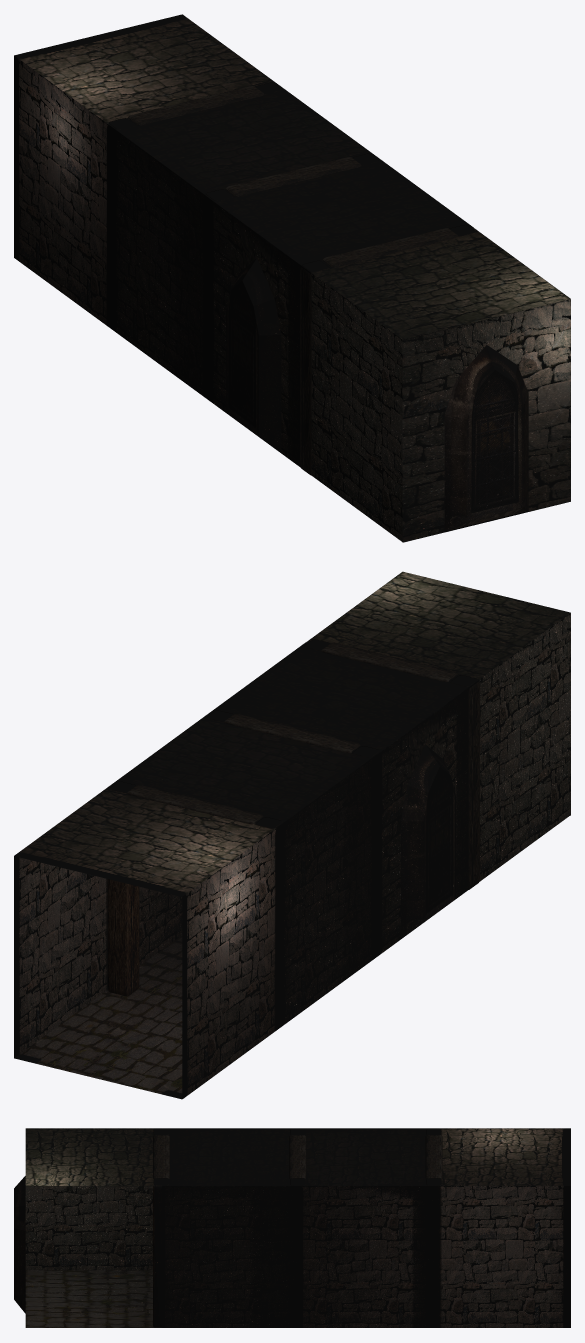
File: corredor01.fbx
3 renders of one model, top to bottom at view 1: azimuth 30°, elevation 25°; view 2: azimuth 150°, elevation 25°; view 3: azimuth 270°, elevation 25°, orthographic. The views are drawn at different scales.
Visible parts, largest first — view 1: castle_wall1, castle_teto1, castle_viga1; view 2: castle_wall1, castle_teto1, castle_floor1, castle_viga1, castleFloor2; view 3: castle_wall1, castle_teto1, castle_floor1, castle_viga1, castleFloor2.
Boxes of the visible parts, box(x1,y1,x2,y2) form: castle_wall1: box(14, 15, 570, 542); castle_teto1: box(14, 14, 570, 339); castle_viga1: box(108, 82, 477, 475); castle_wall1: box(14, 573, 570, 1098); castle_teto1: box(14, 571, 570, 896); castle_floor1: box(14, 936, 182, 1099); castle_viga1: box(107, 639, 479, 996); castleFloor2: box(17, 936, 182, 1098); castle_wall1: box(14, 1128, 570, 1327); castle_teto1: box(25, 1128, 570, 1186); castle_floor1: box(25, 1270, 161, 1327); castle_viga1: box(153, 1128, 442, 1327); castleFloor2: box(25, 1270, 152, 1327).
Bounding box in the file's own units: 217 × 233 × 817.
